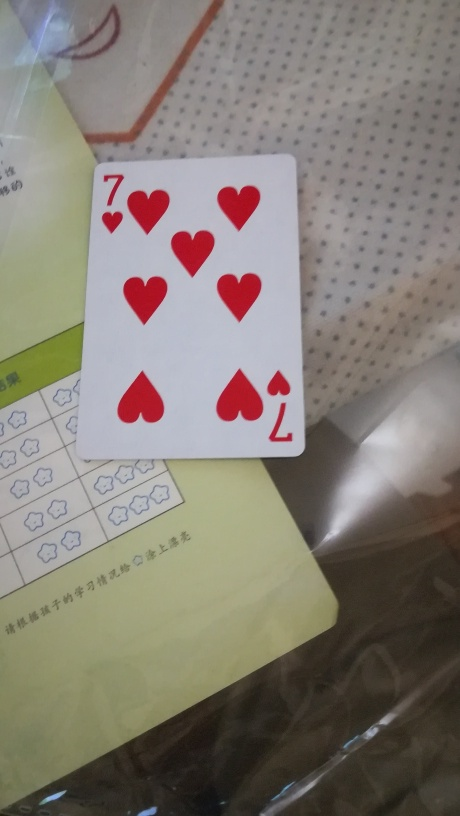hx 7: (76, 155, 311, 459)
